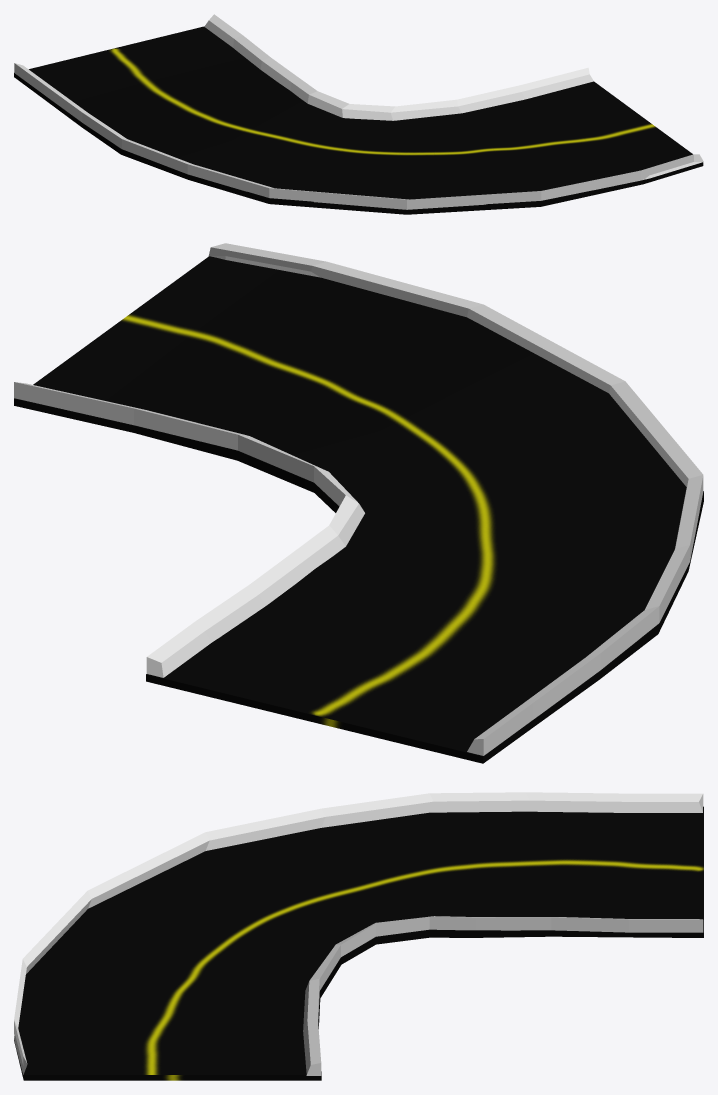
Rendered from CornerL.FBX.
The picture shows the model from 3 angles, top to bottom: view 1: azimuth 30°, elevation 25°; view 2: azimuth 150°, elevation 25°; view 3: azimuth 270°, elevation 25°; orthographic projection. The views are drawn at different scales.
Parts seen in each view (by area): view 1: Corner001, Curb005, Curb004; view 2: Corner001, Curb005, Curb004; view 3: Corner001, Curb005, Curb004.
Part boxes in pixels (box(x1,y1,x2,y2)): Corner001: box(14, 26, 703, 214); Curb005: box(14, 63, 703, 209); Curb004: box(204, 14, 593, 120); Corner001: box(14, 256, 703, 763); Curb005: box(208, 243, 703, 755); Curb004: box(14, 382, 364, 677); Corner001: box(14, 806, 703, 1080); Curb005: box(14, 792, 703, 1074); Curb004: box(303, 916, 703, 1075).
Bounding box in the file's own units: 205 × 7.48 × 222.
1 material, 1 textured.
